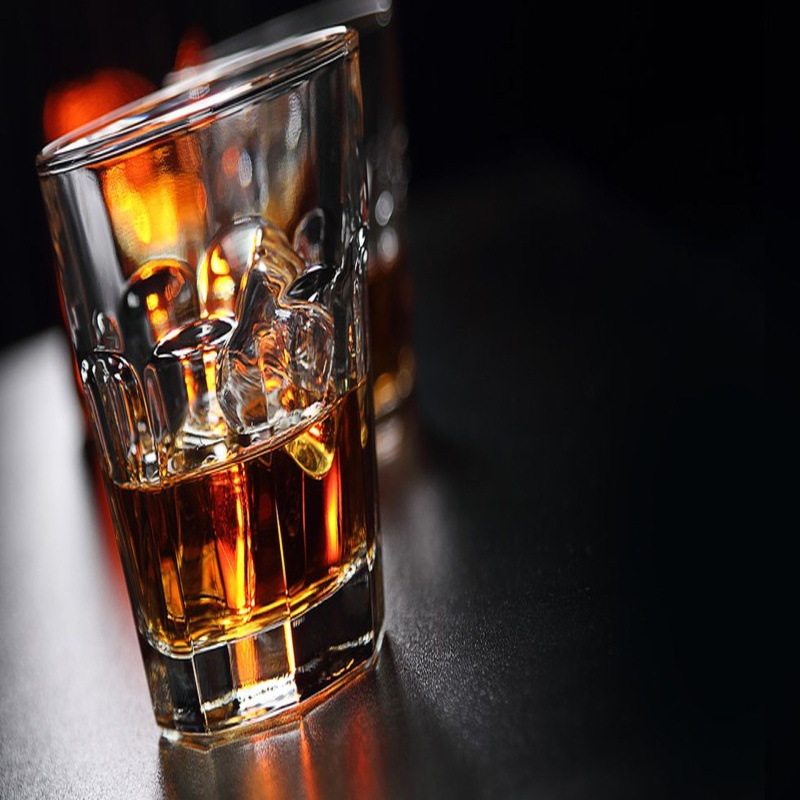whiskey: (52, 41, 443, 663)
